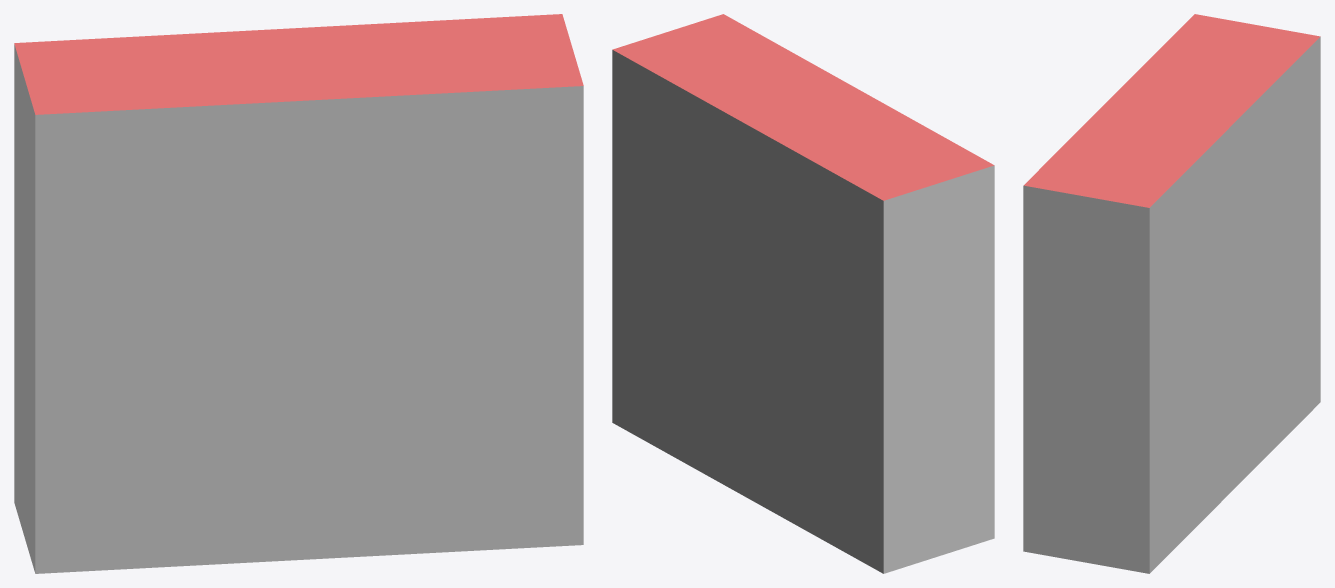
Rendered from DEBY_LOD2_60040.gltf.
3 views of the same model, side by side, from view 1: azimuth 30°, elevation 25°; view 2: azimuth 150°, elevation 25°; view 3: azimuth 270°, elevation 25° (orthographic). The views are drawn at different scales.
Parts seen in each view (by area): view 1: Z_UP; view 2: Z_UP; view 3: Z_UP.
Boxes of the visible parts, x1,y1,x2,y2 form: Z_UP: [14, 14, 583, 573]; Z_UP: [612, 14, 994, 573]; Z_UP: [1023, 14, 1320, 573].
Bounding box in the file's own units: 13.83 × 12.16 × 8.95.
